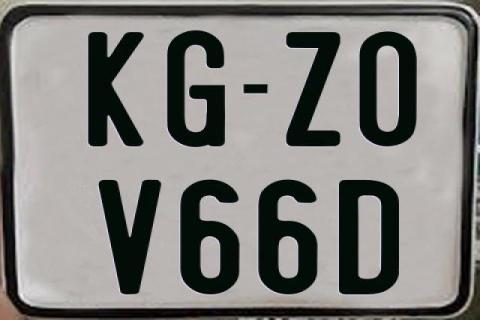0: (356, 31, 420, 149), (179, 179, 243, 297), (255, 178, 316, 296)
D: (339, 180, 401, 299)
G: (166, 29, 224, 148)
K: (87, 30, 149, 144)
V: (97, 180, 163, 297)
Z: (283, 32, 341, 150)
